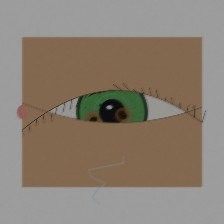foreign_body_visible: (98, 95, 147, 135)
